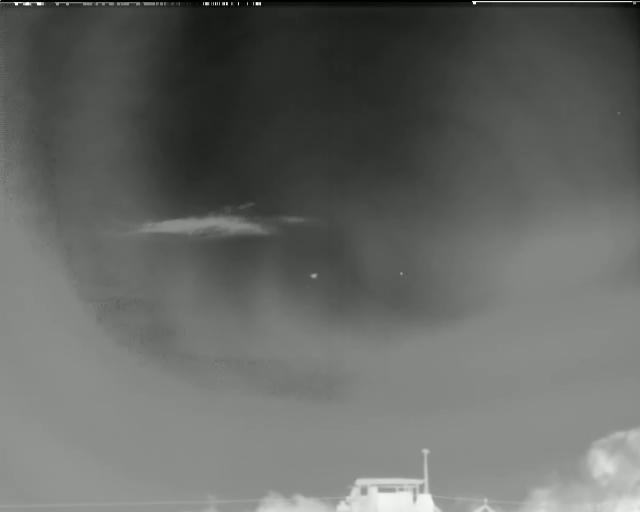uav: (309, 272, 320, 281)
